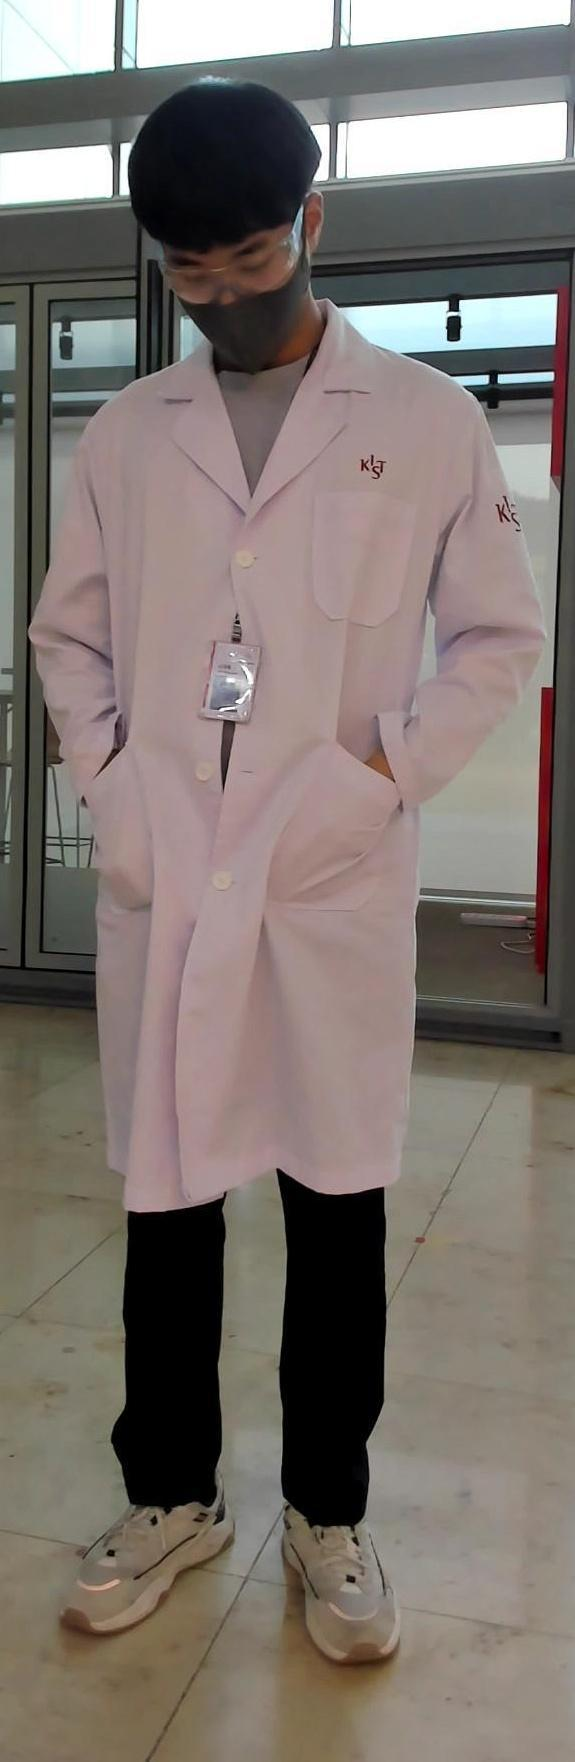lab_coat: (17, 362, 553, 1192)
